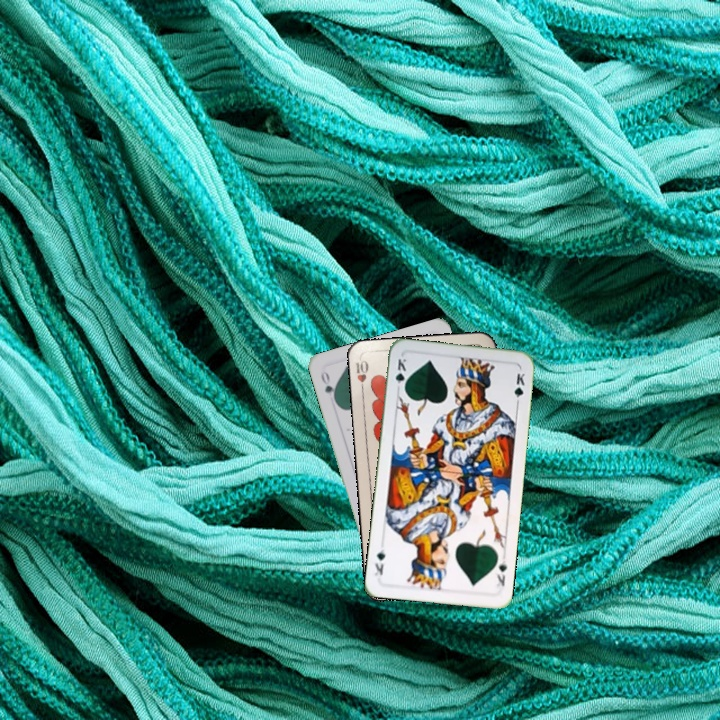GK: (491, 555, 509, 592), (392, 355, 409, 394)
GO: (317, 367, 339, 405)
H10: (352, 355, 371, 396)
